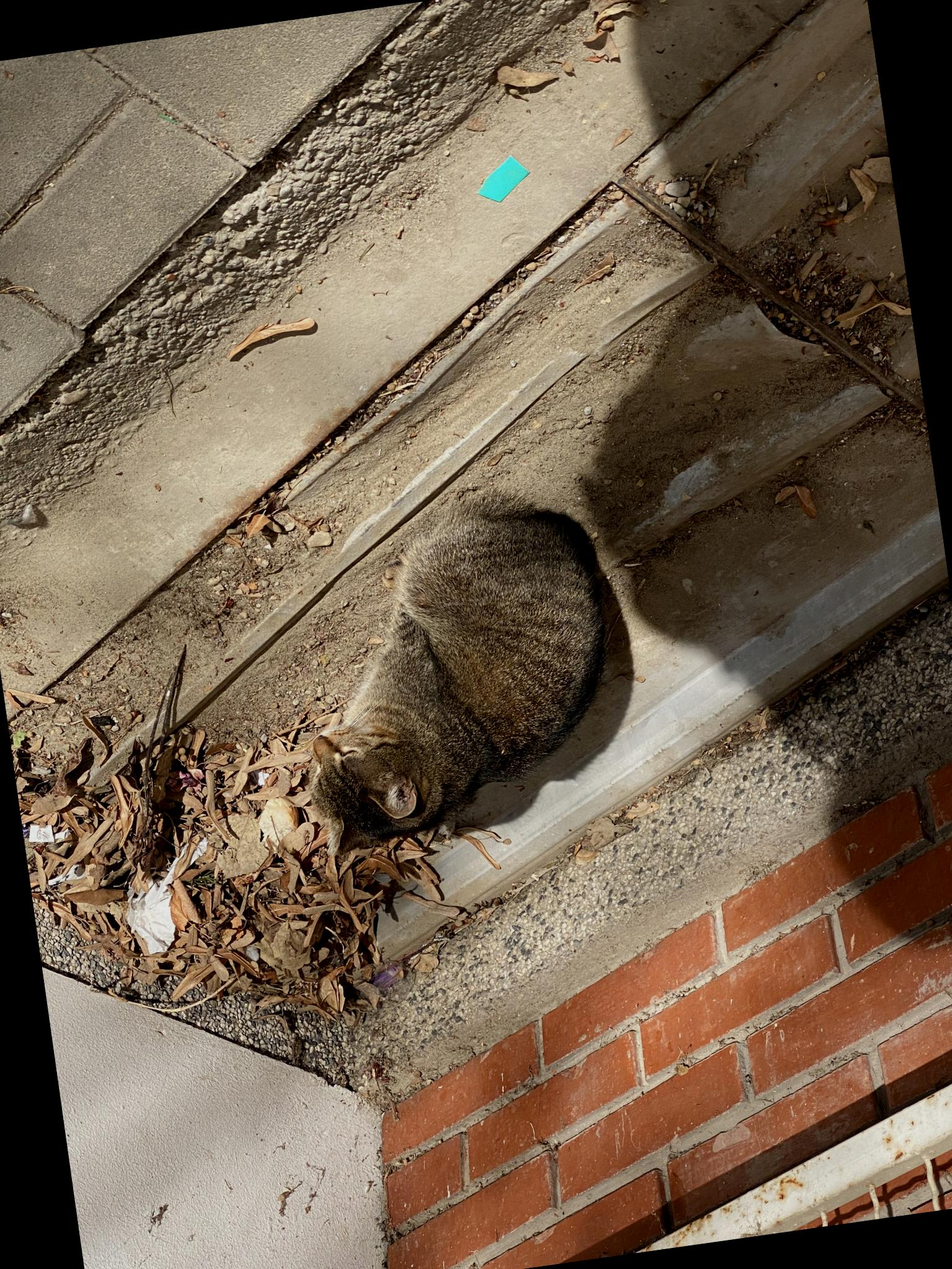macka: (272, 476, 637, 862)
